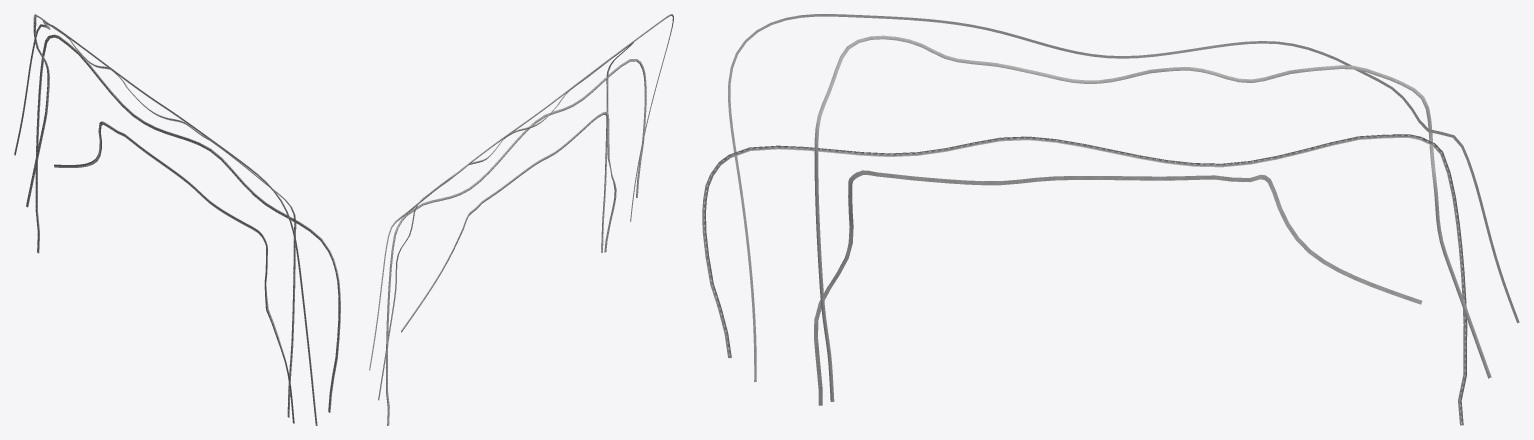
Rendered from SM_LEDStrip_Wall.fbx.
The picture shows the model from 3 angles, left to right: view 1: azimuth 30°, elevation 25°; view 2: azimuth 150°, elevation 25°; view 3: azimuth 270°, elevation 25°; orthographic projection. The views are drawn at different scales.
Parts seen in each view (by area): view 1: SM_LEDStrip_Wall_LOD0; view 2: SM_LEDStrip_Wall_LOD0; view 3: SM_LEDStrip_Wall_LOD0.
Part boxes in pixels (bbox=[...]): SM_LEDStrip_Wall_LOD0: bbox=[14, 14, 340, 425]; SM_LEDStrip_Wall_LOD0: bbox=[369, 14, 673, 425]; SM_LEDStrip_Wall_LOD0: bbox=[702, 14, 1519, 425].
Size of the model in its own units: 47.71 by 438 by 222.
Materials: 5 (5 with a texture image).
